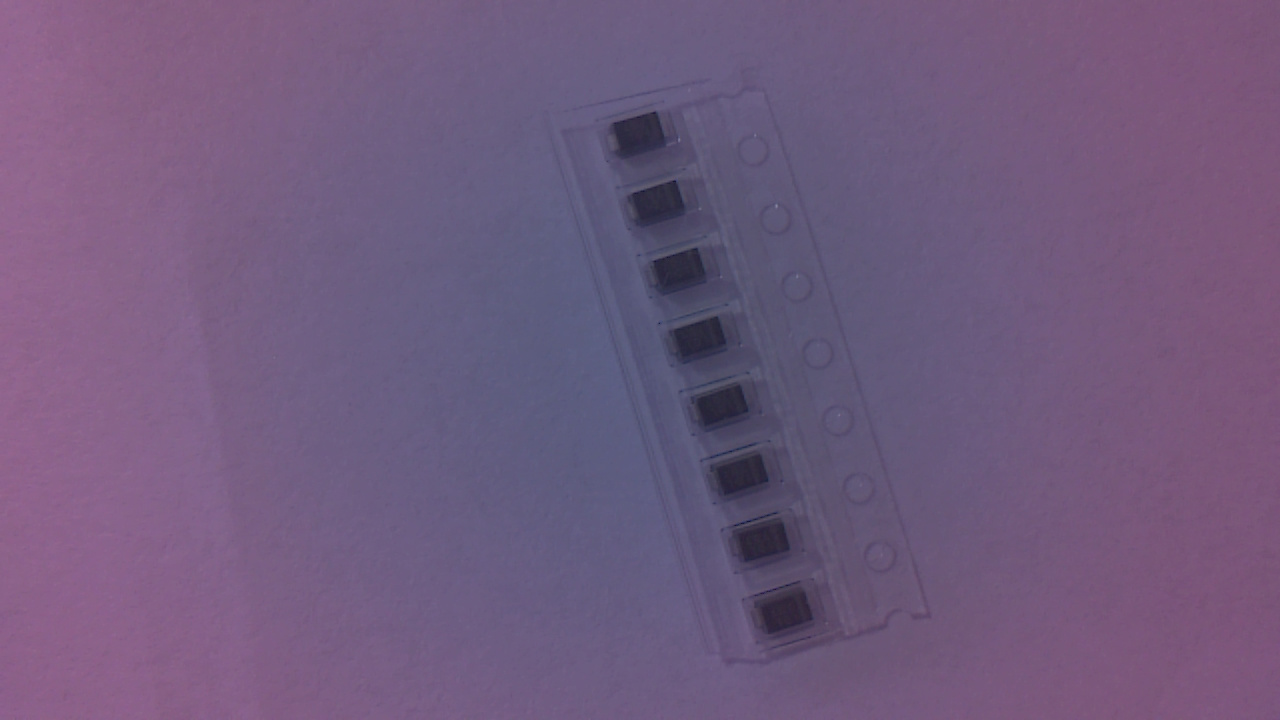Diode: (663, 318, 740, 370), (691, 387, 765, 435), (605, 117, 682, 163), (648, 250, 720, 299), (732, 524, 805, 572), (754, 594, 826, 640), (710, 455, 780, 501), (629, 188, 698, 233)
